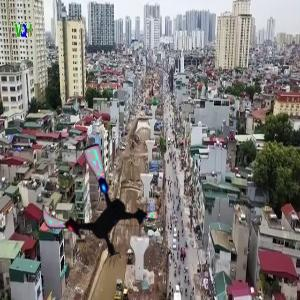drone: (39, 142, 163, 266)
